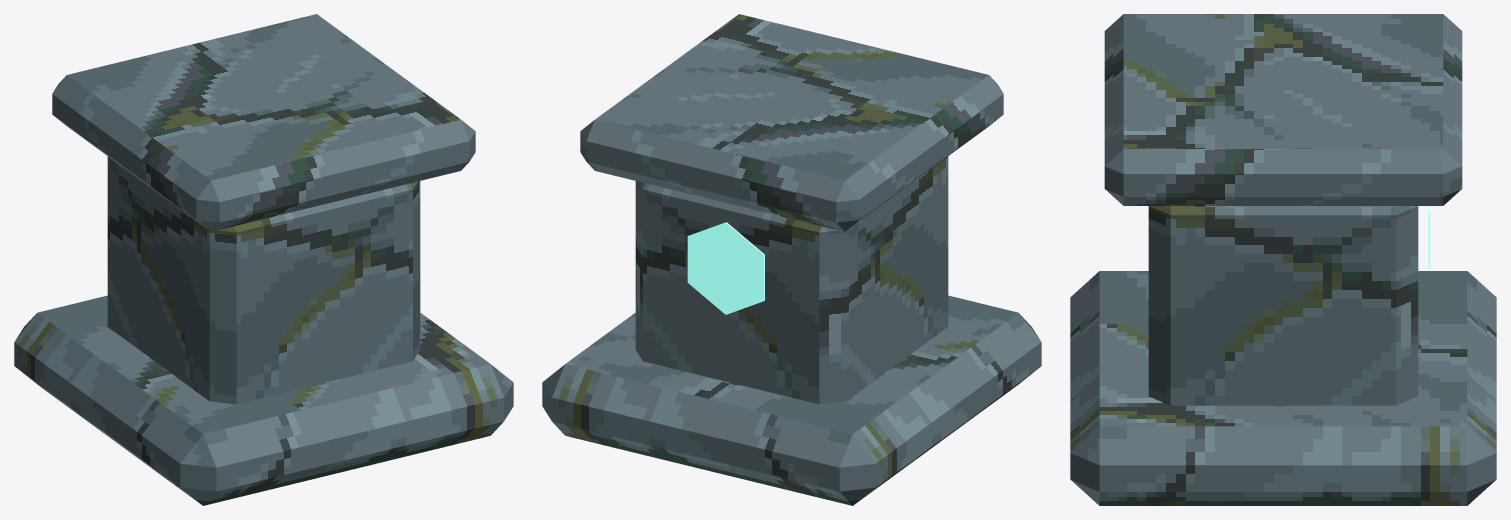
Rendered from totem_dominio.glb.
The picture shows the model from 3 angles, left to right: view 1: azimuth 30°, elevation 25°; view 2: azimuth 150°, elevation 25°; view 3: azimuth 270°, elevation 25°; orthographic projection. The views are drawn at different scales.
Parts seen in each view (by area): view 1: bosque_totem_dominio; view 2: bosque_totem_dominio; view 3: bosque_totem_dominio.
Boxes of the visible parts, x1=… form: bosque_totem_dominio: x1=14, y1=14, x2=513, y2=505; bosque_totem_dominio: x1=542, y1=14, x2=1041, y2=505; bosque_totem_dominio: x1=1070, y1=14, x2=1496, y2=505.
Bounding box in the file's own units: 0.68 × 0.61 × 0.68.
2 materials, 1 textured.
